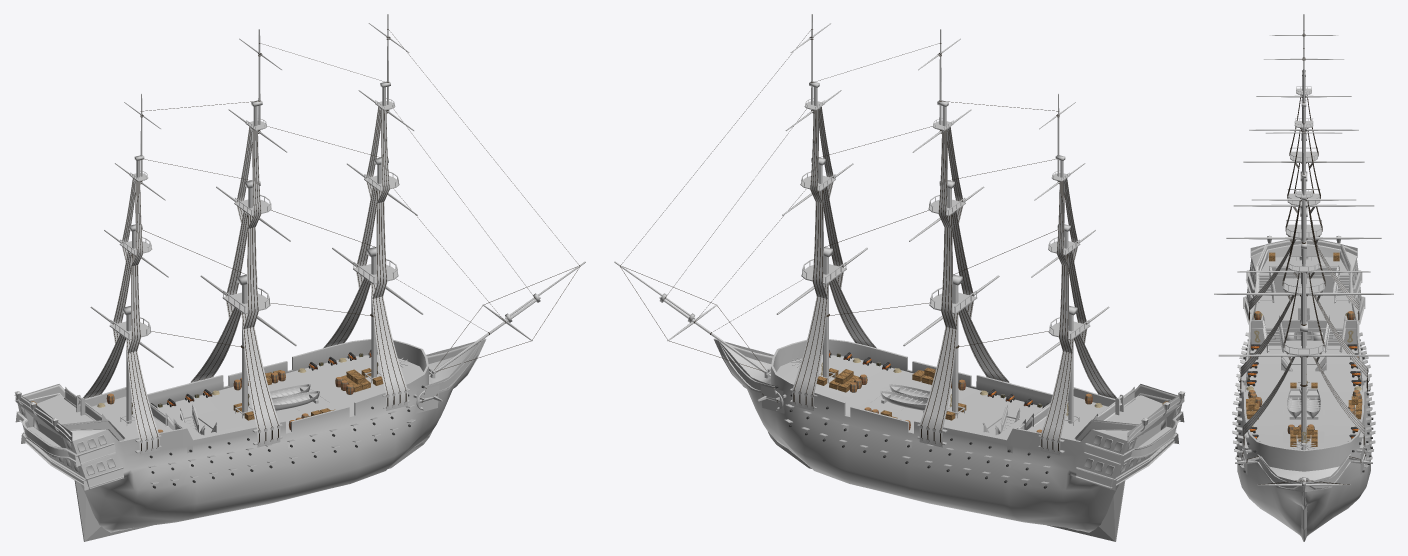
File: LineWarship80-cannons_LOD1.FBX
3 views of the same model, side by side, from view 1: azimuth 30°, elevation 25°; view 2: azimuth 150°, elevation 25°; view 3: azimuth 270°, elevation 25° (orthographic). The views are drawn at different scales.
Visible parts, largest first — view 1: LineWarship80-cannonCorps_LD1_000, VantsVeryLow005, Line warship 80-cannon_MastsLD1_000, Vants01_003, DetailLD1_001, LineWarship80-cannonComponents_LD1_000, LineWarship80-cannons_LD1, Rope1LD0_003; view 2: LineWarship80-cannonCorps_LD1_000, VantsVeryLow005, Line warship 80-cannon_MastsLD1_000, Vants01_003, LineWarship80-cannonComponents_LD1_000, DetailLD1_001, LineWarship80-cannons_LD1, Rope1LD0_003; view 3: LineWarship80-cannonCorps_LD1_000, Line warship 80-cannon_MastsLD1_000, LineWarship80-cannonComponents_LD1_000, LineWarship80-cannons_LD1, DetailLD1_001, VantsVeryLow005, Vants01_003, WindowsLD1_001.
Boxes of the visible parts, x1,y1,x2,y2 form: LineWarship80-cannonCorps_LD1_000: (17, 338, 486, 541); VantsVeryLow005: (82, 107, 407, 455); Line warship 80-cannon_MastsLD1_000: (84, 14, 585, 453); Vants01_003: (84, 107, 405, 439); DetailLD1_001: (15, 341, 480, 490); LineWarship80-cannonComponents_LD1_000: (14, 342, 480, 488); LineWarship80-cannons_LD1: (157, 354, 423, 439); Rope1LD0_003: (142, 30, 579, 371); LineWarship80-cannonCorps_LD1_000: (713, 338, 1182, 541); VantsVeryLow005: (792, 107, 1116, 455); Line warship 80-cannon_MastsLD1_000: (614, 14, 1115, 453); Vants01_003: (794, 107, 1115, 439); LineWarship80-cannonComponents_LD1_000: (719, 342, 1184, 488); DetailLD1_001: (719, 341, 1184, 490); LineWarship80-cannons_LD1: (776, 354, 1042, 439); Rope1LD0_003: (620, 30, 1057, 371); LineWarship80-cannonCorps_LD1_000: (1232, 245, 1375, 541); Line warship 80-cannon_MastsLD1_000: (1214, 14, 1393, 486); LineWarship80-cannonComponents_LD1_000: (1243, 239, 1364, 489); LineWarship80-cannons_LD1: (1245, 346, 1362, 449); DetailLD1_001: (1243, 239, 1365, 491); VantsVeryLow005: (1240, 111, 1367, 434); Vants01_003: (1241, 95, 1366, 433); WindowsLD1_001: (1246, 261, 1361, 339).
Size of the model in its own units: 2751 by 2231 by 815.
